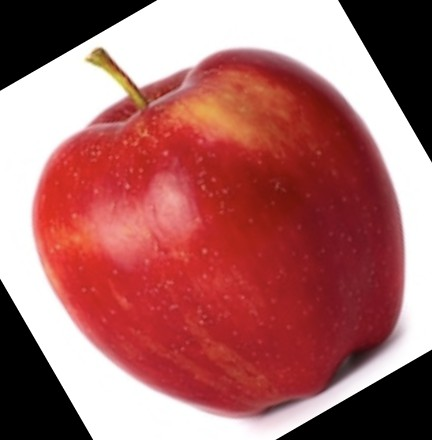fresh_apple: (33, 46, 405, 417)
